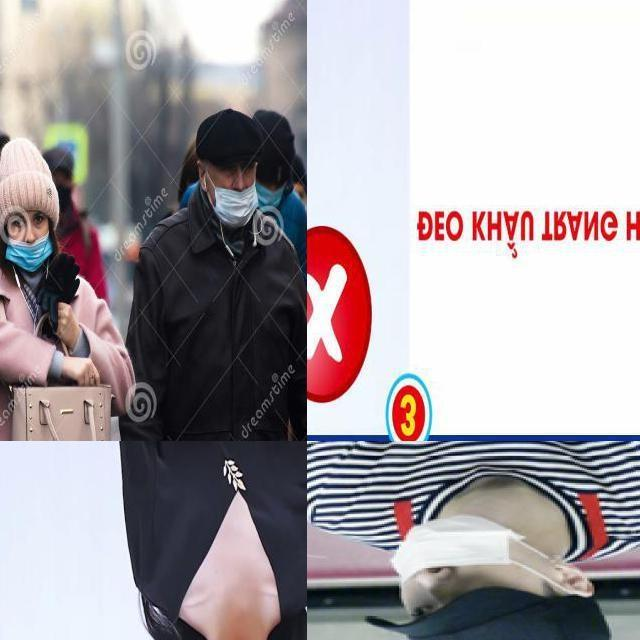hairnet: (404, 512, 497, 622), (218, 153, 256, 220), (10, 208, 50, 269)
